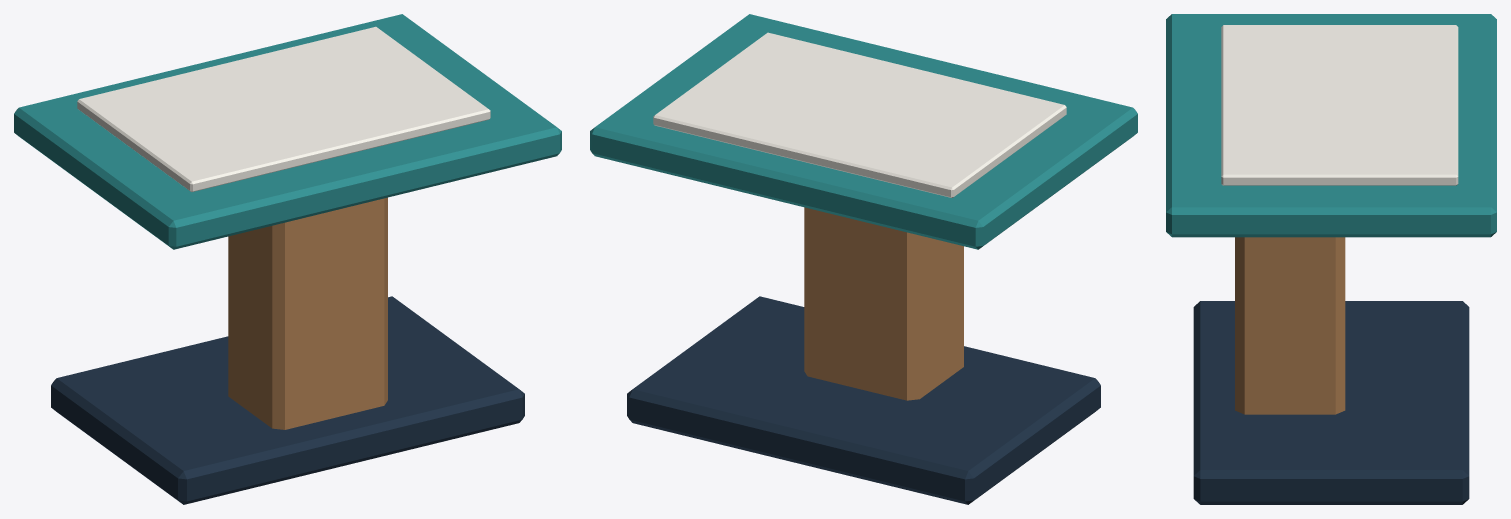
Rendered from SM_DocumentStand.obj.
3 views of the same model, side by side, from view 1: azimuth 30°, elevation 25°; view 2: azimuth 150°, elevation 25°; view 3: azimuth 270°, elevation 25° (orthographic). The views are drawn at different scales.
Parts seen in each view (by area): view 1: SM_DocumentStand; view 2: SM_DocumentStand; view 3: SM_DocumentStand.
Boxes of the visible parts, bbox=[...] form: SM_DocumentStand: bbox=[14, 14, 561, 504]; SM_DocumentStand: bbox=[590, 14, 1137, 504]; SM_DocumentStand: bbox=[1166, 14, 1496, 504].
Size of the model in its own units: 1.7 by 1.28 by 1.2.
